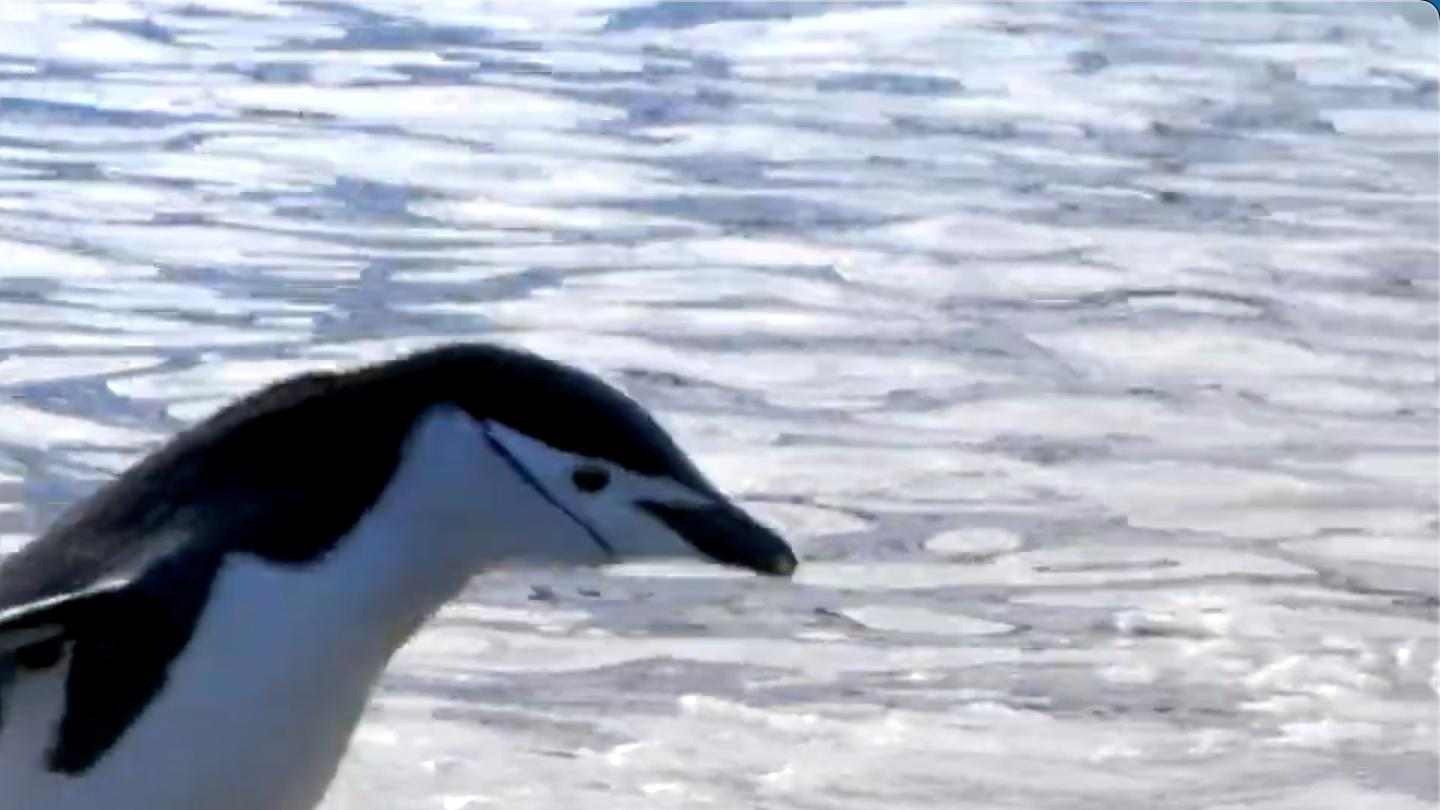Chinstrap Penguin: (0, 325, 821, 810)
